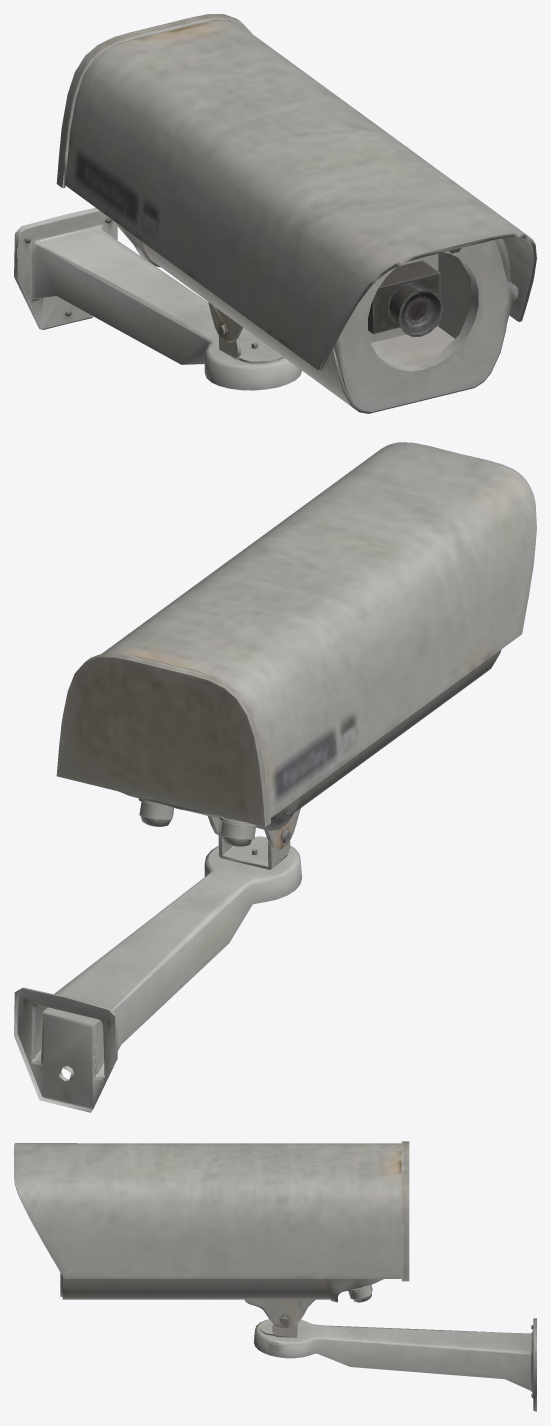
The model's file is security_camera.glb.
The picture shows the model from 3 angles, top to bottom: view 1: azimuth 30°, elevation 25°; view 2: azimuth 150°, elevation 25°; view 3: azimuth 270°, elevation 25°; orthographic projection. The views are drawn at different scales.
Parts seen in each view (by area): view 1: security_camera_01; view 2: security_camera_01; view 3: security_camera_01.
Part boxes in pixels (<box>): security_camera_01: <box>14,14,536,413</box>; security_camera_01: <box>14,442,536,1112</box>; security_camera_01: <box>14,1141,536,1411</box>.
Bounding box in the file's own units: 0.1695 × 0.286 × 0.5537.
1 material, 1 textured.
